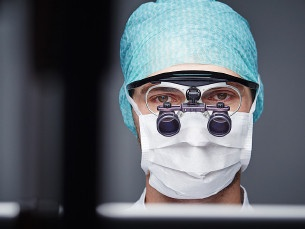Mask: (134, 79, 252, 197)
